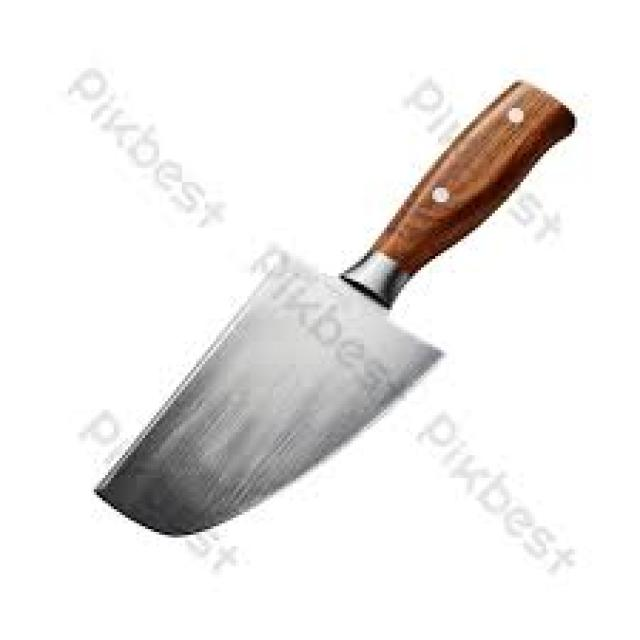Knife: (94, 80, 569, 535)
